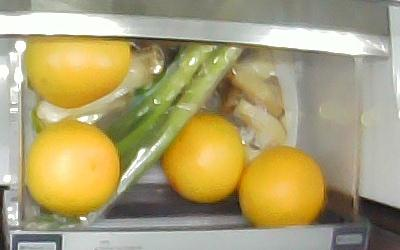grapefruit: (24, 117, 120, 214), (159, 111, 245, 202), (23, 36, 131, 108), (237, 144, 326, 225)
